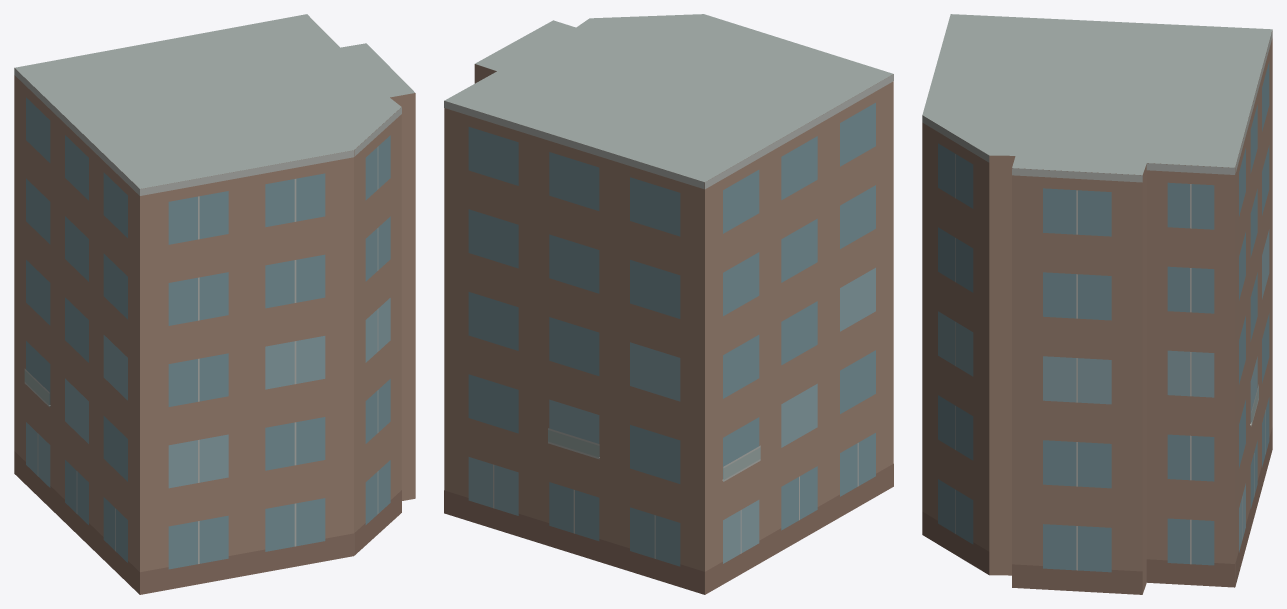
Rendered from survey-upis-32968229.glb.
3 renders of one model, left to right at view 1: azimuth 30°, elevation 25°; view 2: azimuth 150°, elevation 25°; view 3: azimuth 270°, elevation 25°, orthographic. The views are drawn at different scales.
Visible parts, largest first — view 1: survey-upis-32968229.tmp; view 2: survey-upis-32968229.tmp; view 3: survey-upis-32968229.tmp.
Boxes of the visible parts, left/top/right/bottom form: survey-upis-32968229.tmp: left=14, top=14, right=415, bottom=594; survey-upis-32968229.tmp: left=444, top=14, right=893, bottom=594; survey-upis-32968229.tmp: left=922, top=14, right=1272, bottom=594.
Size of the model in its own units: 11.54 by 14 by 10.6.
